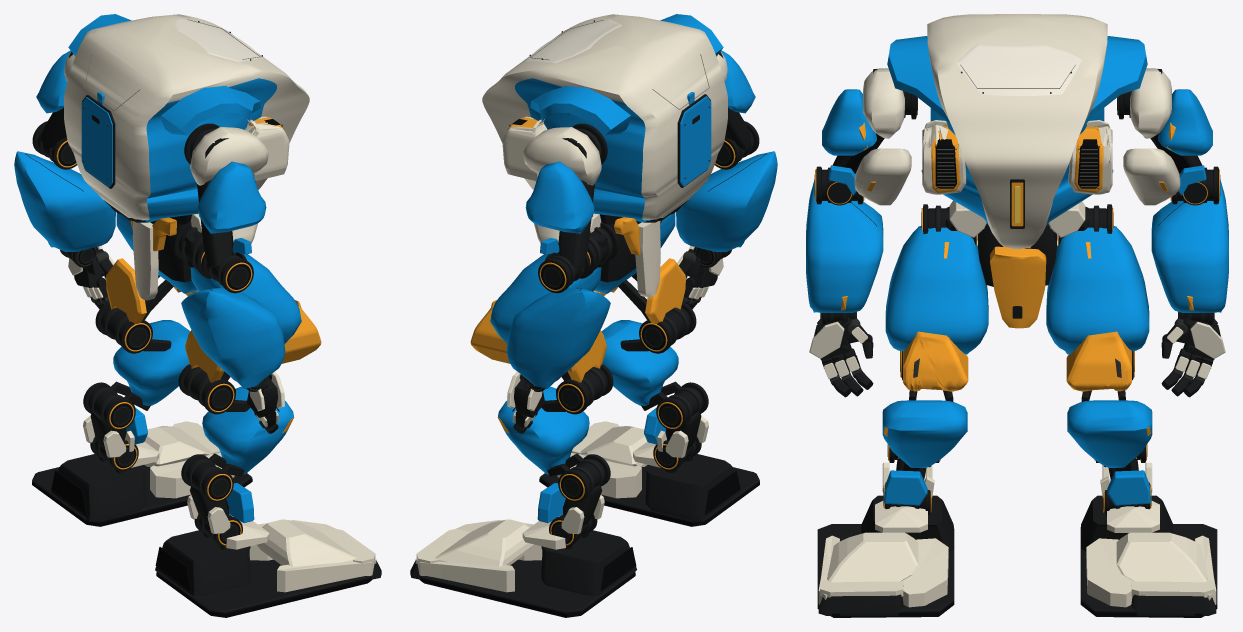
File: appearance_c.glb
3 renders of one model, left to right at view 1: azimuth 30°, elevation 25°; view 2: azimuth 150°, elevation 25°; view 3: azimuth 270°, elevation 25°, orthographic. The views are drawn at different scales.
Parts seen in each view (by area): view 1: continuous_ivory_blue_torso_shell, right_blue_forearm_wrap, left_blue_forearm_wrap, left_black_clipped_tall_heel, left_blue_middle_shank_wrap, right_black_clipped_tall_heel, right_blue_middle_shank_wrap, right_blue_deltoid_wrap, right_ivory_artwork_sloping_toe, right_graphite_sole_upper_band, right_ivory_shoulder_cap, right_blue_continuous_shoulder_sweep (+29 smaller); view 2: continuous_ivory_blue_torso_shell, left_blue_forearm_wrap, right_blue_forearm_wrap, right_black_clipped_tall_heel, left_black_clipped_tall_heel, right_blue_middle_shank_wrap, left_blue_middle_shank_wrap, left_blue_deltoid_wrap, left_ivory_artwork_sloping_toe, left_graphite_sole_upper_band, left_ivory_shoulder_cap, left_blue_continuous_shoulder_sweep (+29 smaller); view 3: continuous_ivory_blue_torso_shell, right_blue_thigh_wrap, left_blue_thigh_wrap, left_blue_forearm_wrap, right_blue_forearm_wrap, ivory_crown_inset, left_blue_middle_shank_wrap, right_blue_middle_shank_wrap, left_ivory_artwork_sloping_toe, right_ivory_artwork_sloping_toe, saffron_front_pelvis_cartridge, right_yellow_front_knee_insert (+34 smaller).
Part boxes in pixels (left/top/right/bottom): continuous_ivory_blue_torso_shell: left=64, top=14, right=309, bottom=222; right_blue_forearm_wrap: left=181, top=288, right=285, bottom=388; left_blue_forearm_wrap: left=14, top=151, right=115, bottom=251; left_black_clipped_tall_heel: left=51, top=454, right=146, bottom=521; left_blue_middle_shank_wrap: left=113, top=320, right=190, bottom=405; right_black_clipped_tall_heel: left=155, top=530, right=250, bottom=595; right_blue_middle_shank_wrap: left=202, top=386, right=293, bottom=474; right_blue_deltoid_wrap: left=197, top=161, right=266, bottom=233; right_ivory_artwork_sloping_toe: left=257, top=519, right=356, bottom=566; right_graphite_sole_upper_band: left=156, top=559, right=370, bottom=612; right_ivory_shoulder_cap: left=190, top=127, right=268, bottom=185; right_blue_continuous_shoulder_sweep: left=161, top=86, right=260, bottom=135; continuous_ivory_blue_torso_shell: left=482, top=14, right=727, bottom=222; left_blue_forearm_wrap: left=506, top=288, right=610, bottom=388; right_blue_forearm_wrap: left=676, top=151, right=777, bottom=251; right_black_clipped_tall_heel: left=645, top=454, right=740, bottom=521; left_black_clipped_tall_heel: left=541, top=530, right=636, bottom=595; right_blue_middle_shank_wrap: left=601, top=320, right=678, bottom=405; left_blue_middle_shank_wrap: left=498, top=386, right=589, bottom=474; left_blue_deltoid_wrap: left=525, top=161, right=594, bottom=233; left_ivory_artwork_sloping_toe: left=435, top=519, right=534, bottom=566; left_graphite_sole_upper_band: left=421, top=559, right=635, bottom=612; left_ivory_shoulder_cap: left=523, top=127, right=601, bottom=185; left_blue_continuous_shoulder_sweep: left=530, top=85, right=630, bottom=135; continuous_ivory_blue_torso_shell: left=921, top=14, right=1113, bottom=249; right_blue_thigh_wrap: left=885, top=226, right=988, bottom=354; left_blue_thigh_wrap: left=1046, top=226, right=1149, bottom=354; left_blue_forearm_wrap: left=1151, top=179, right=1228, bottom=312; right_blue_forearm_wrap: left=806, top=179, right=883, bottom=312; ivory_crown_inset: left=956, top=44, right=1081, bottom=95; left_blue_middle_shank_wrap: left=1067, top=400, right=1152, bottom=467; right_blue_middle_shank_wrap: left=882, top=400, right=967, bottom=467; left_ivory_artwork_sloping_toe: left=1116, top=532, right=1207, bottom=582; right_ivory_artwork_sloping_toe: left=827, top=532, right=918, bottom=582; saffron_front_pelvis_cartridge: left=990, top=246, right=1046, bottom=328; right_yellow_front_knee_insert: left=903, top=331, right=968, bottom=391.
Bounding box in the file's own units: 1.09 × 2.65 × 1.93.
